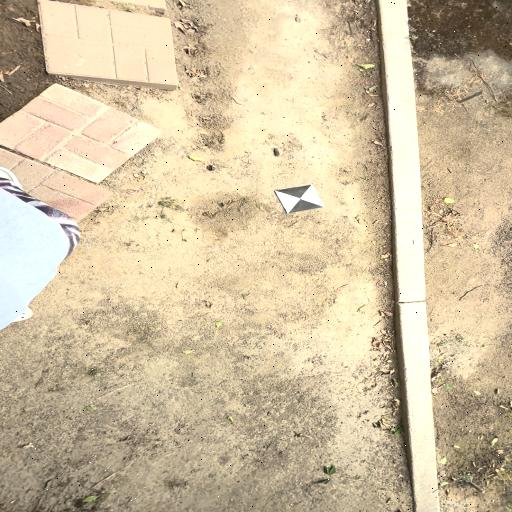target: (276, 185, 323, 213)
